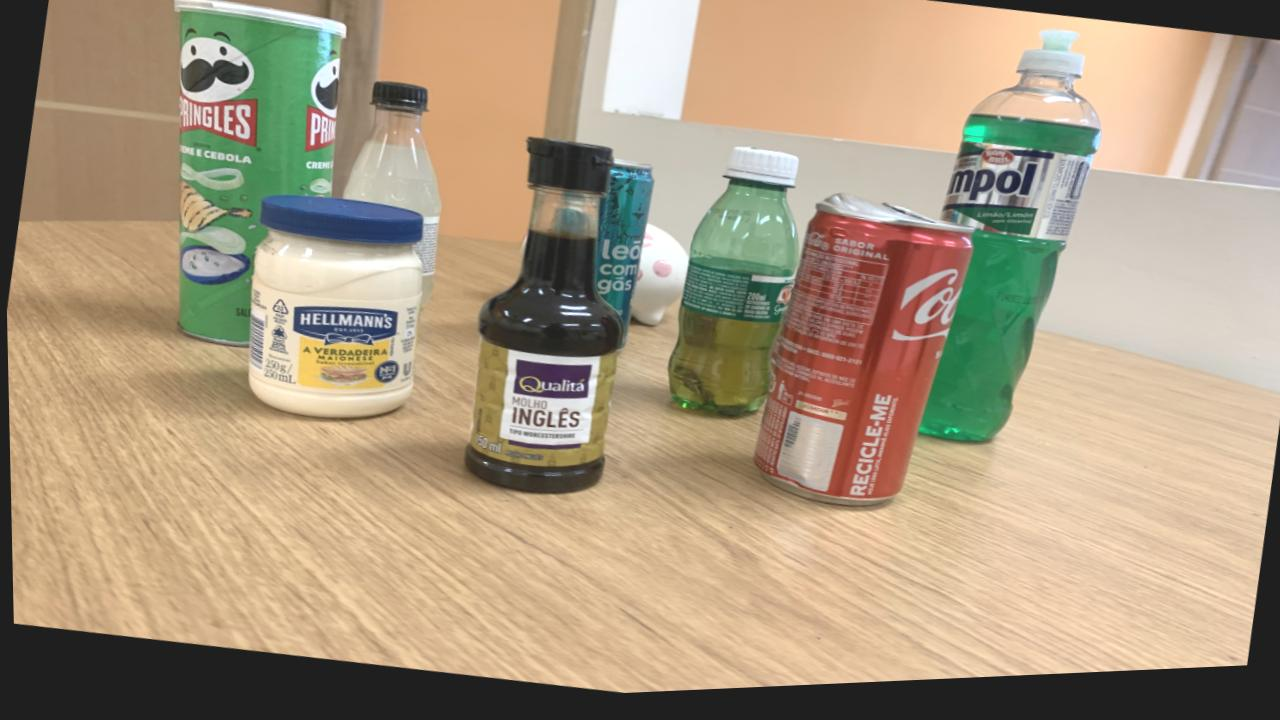Coke-Drinks: (752, 202, 972, 514)
Detergent-Cleanup_Items: (917, 41, 1100, 451)
English_Sauce-Pantry_Items: (462, 144, 623, 497)
Guarana-Drinks: (666, 154, 798, 422)
Mayonnaise-Pantry_Items: (246, 197, 423, 421)
Pig_Safe-Miscellaneous: (629, 230, 687, 331)
Pringles-Snacks: (174, 0, 345, 346)
Soda-Drinks: (343, 85, 441, 308)
Tea-Drinks: (593, 165, 653, 333)
